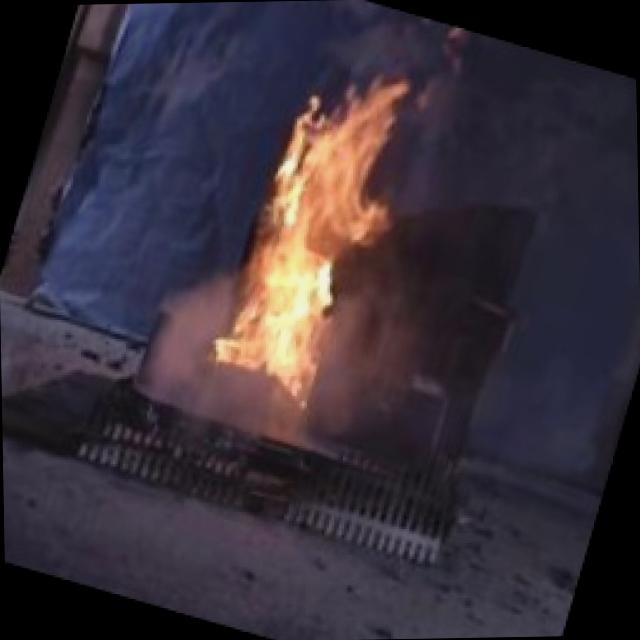fire: (199, 37, 426, 416)
